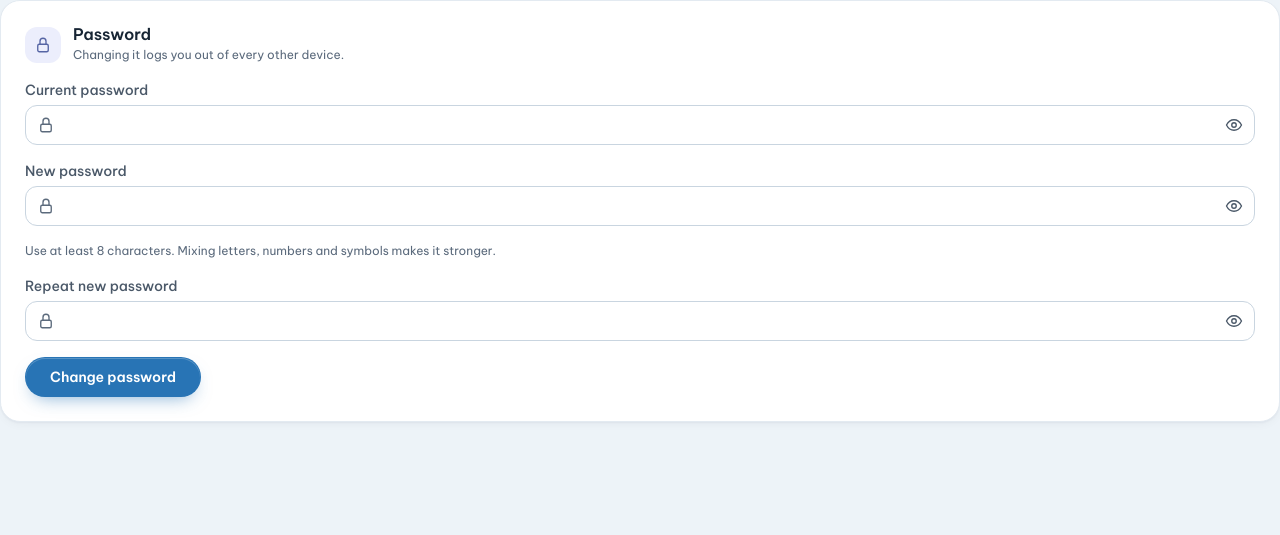
it: PasswordSection › shows the server error (a wrong current password) and keeps what was typed
The width and height of the screenshot is (1280, 535).
Type "wrong" into the password field labelled "Current password".
click(640, 125); type("wrong")  # box [25,105,1255,145]
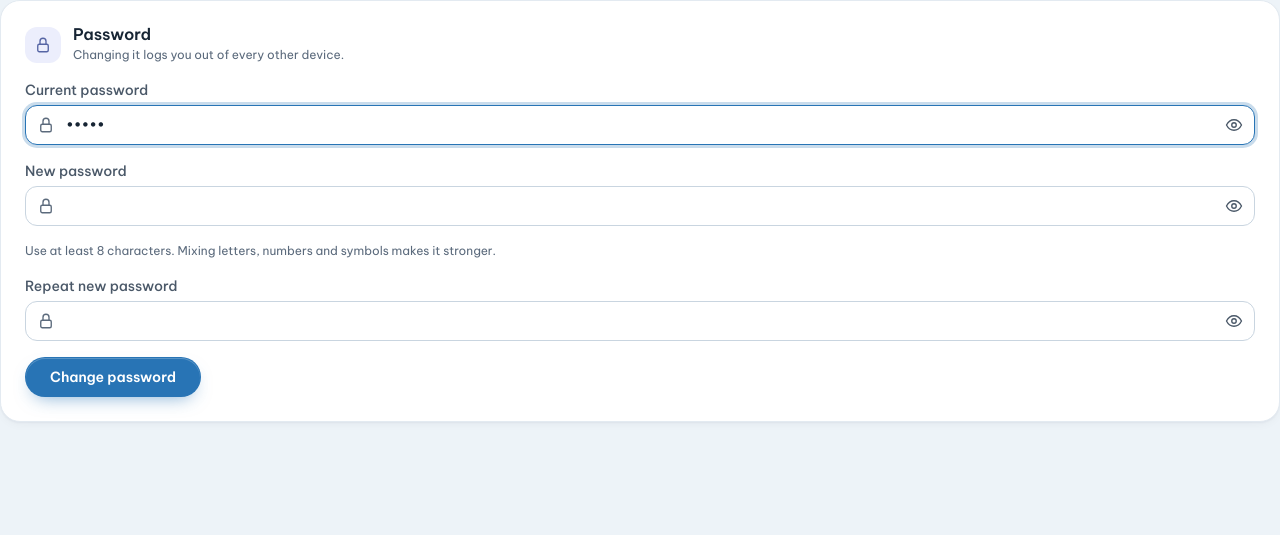
Type "a-better-one" into the password field labelled "New password".
click(640, 206); type("a-better-one")  # box [25,186,1255,226]
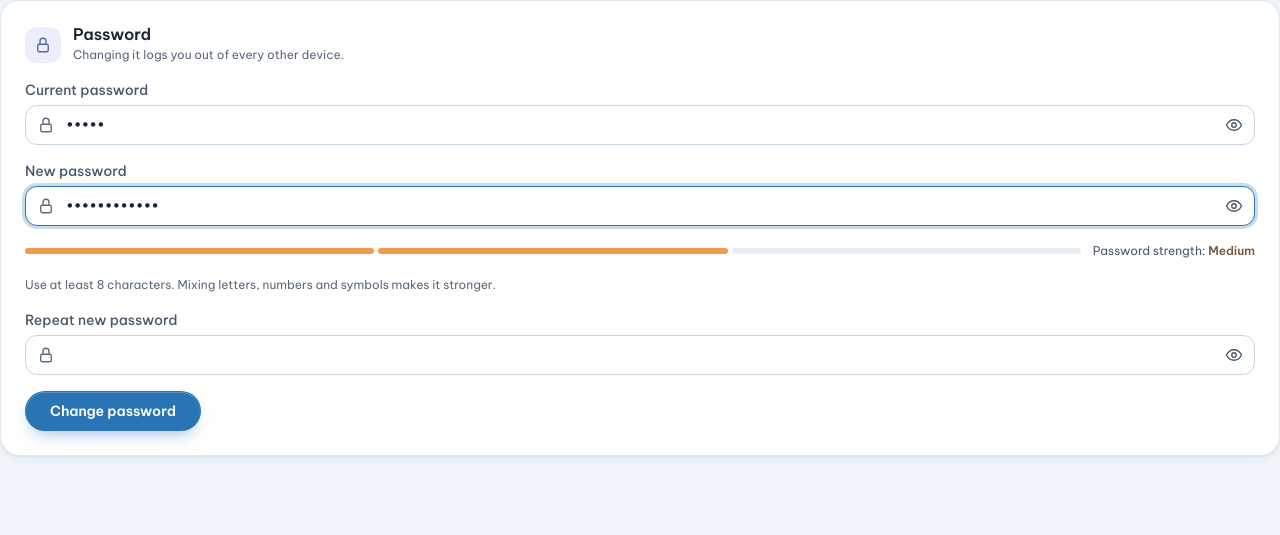
Type "a-better-one" into the password field labelled "Repeat new password".
click(640, 355); type("a-better-one")  # box [25,335,1255,375]
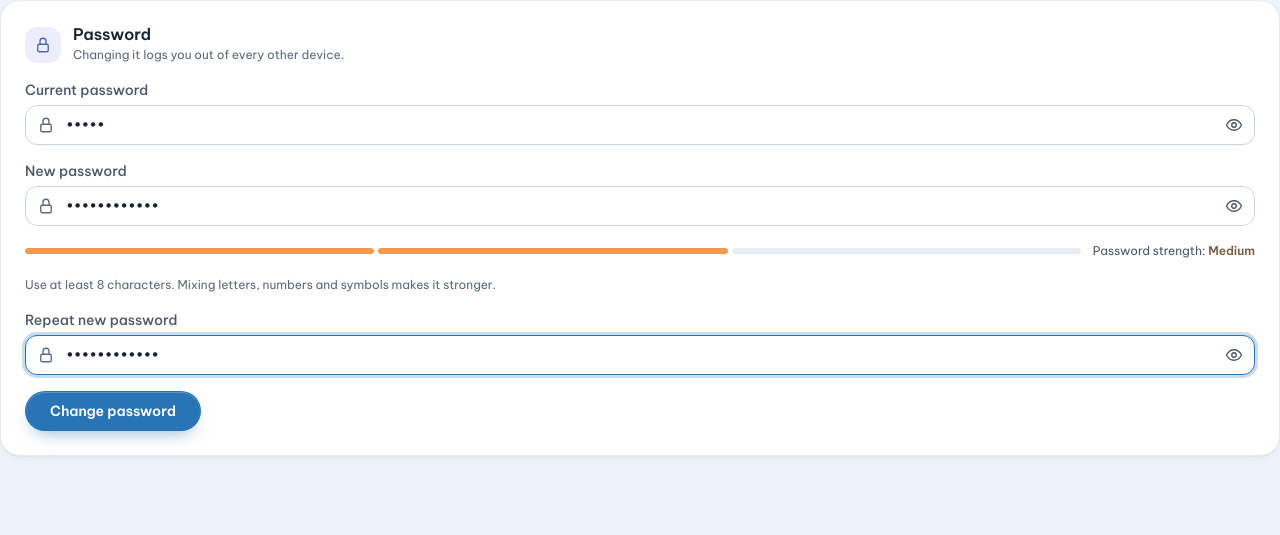
Click the button "Change password".
click(113, 411)  # box [25,391,201,431]
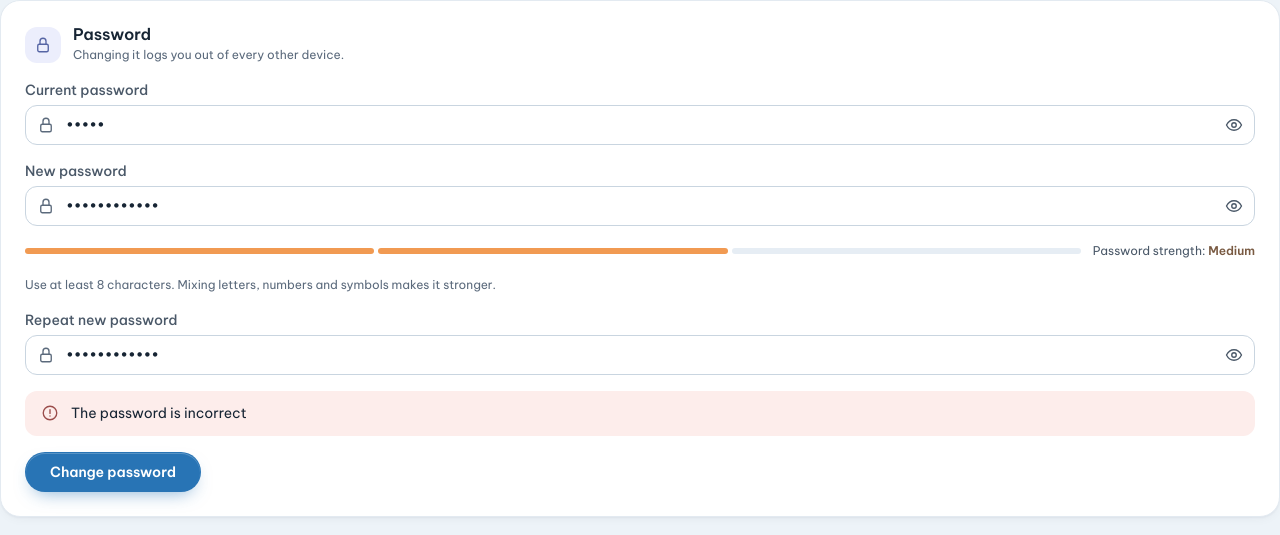
Check: the message "The password is incorrect" is shown, box [25,391,1255,436]
